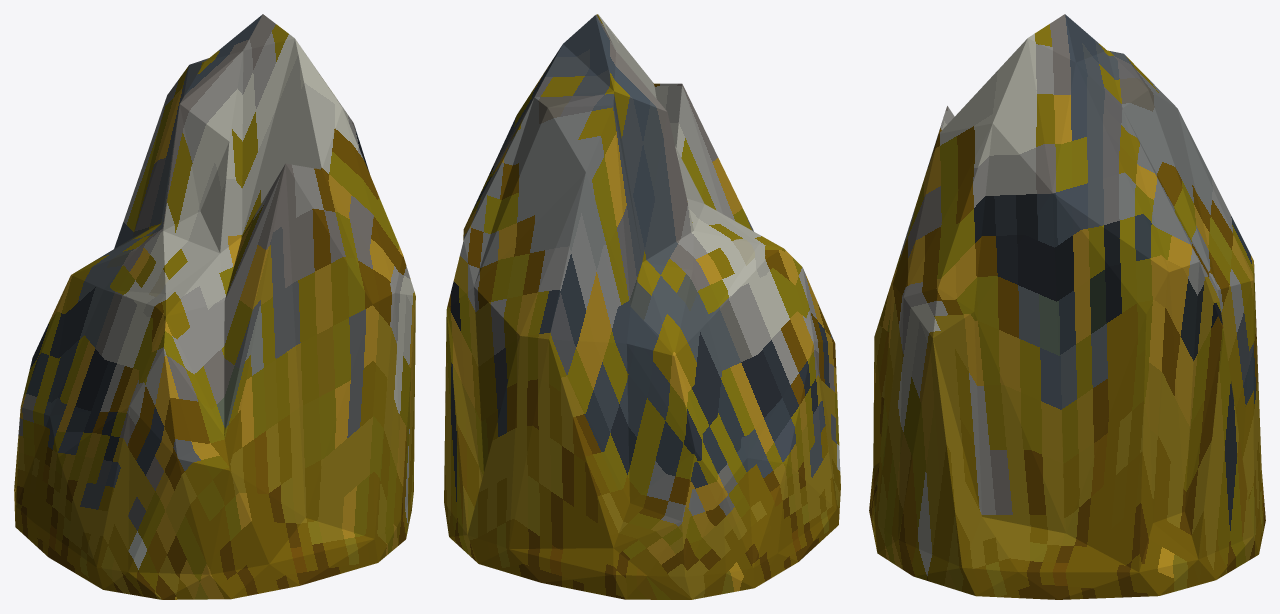
File: big_rock_dirt.obj
The picture shows the model from 3 angles, left to right: view 1: azimuth 30°, elevation 25°; view 2: azimuth 150°, elevation 25°; view 3: azimuth 270°, elevation 25°; orthographic projection. The views are drawn at different scales.
Visible parts, largest first — view 1: Cube; view 2: Cube; view 3: Cube.
Boxes of the visible parts, x1=… form: Cube: x1=14, y1=14, x2=415, y2=599; Cube: x1=444, y1=14, x2=840, y2=599; Cube: x1=869, y1=14, x2=1265, y2=599.
Bounding box in the file's own units: 0.962 × 1.41 × 0.9602.
1 material, 1 textured.
